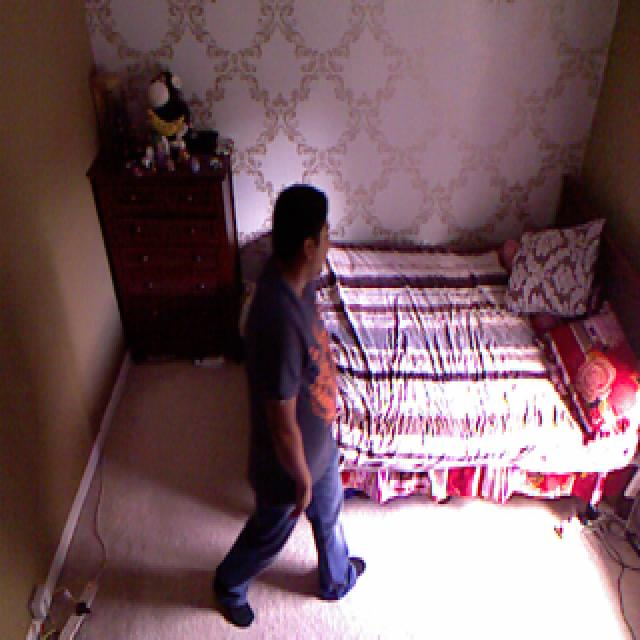standing: (223, 186, 377, 628)
